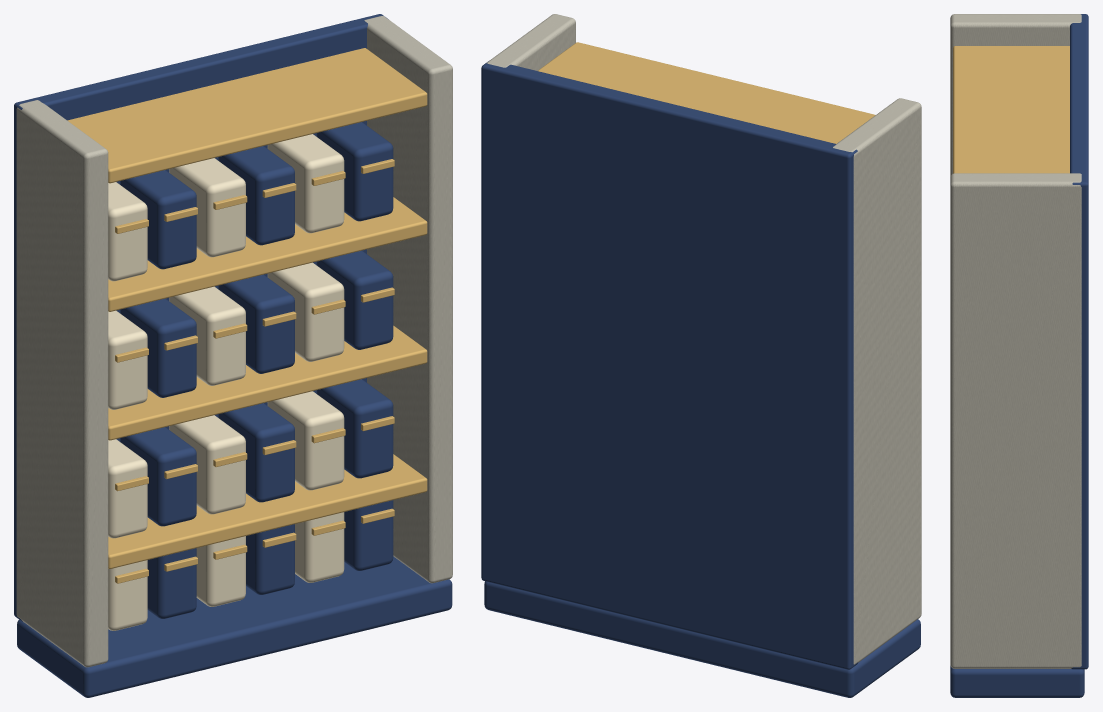
Rendered from arcane-academy-and-spell-trials-enchanted-bookcase-3bff09fa__28294.glb.
3 views of the same model, side by side, from view 1: azimuth 30°, elevation 25°; view 2: azimuth 150°, elevation 25°; view 3: azimuth 270°, elevation 25° (orthographic). The views are drawn at different scales.
Parts seen in each view (by area): view 1: enchanted-bookcase; view 2: enchanted-bookcase; view 3: enchanted-bookcase.
Boxes of the visible parts, bbox=[...] form: enchanted-bookcase: bbox=[14, 14, 452, 697]; enchanted-bookcase: bbox=[481, 14, 921, 697]; enchanted-bookcase: bbox=[950, 14, 1088, 697].
Bounding box in the file's own units: 1.5 × 2.12 × 0.515.
Materials: 4 (1 with a texture image).
